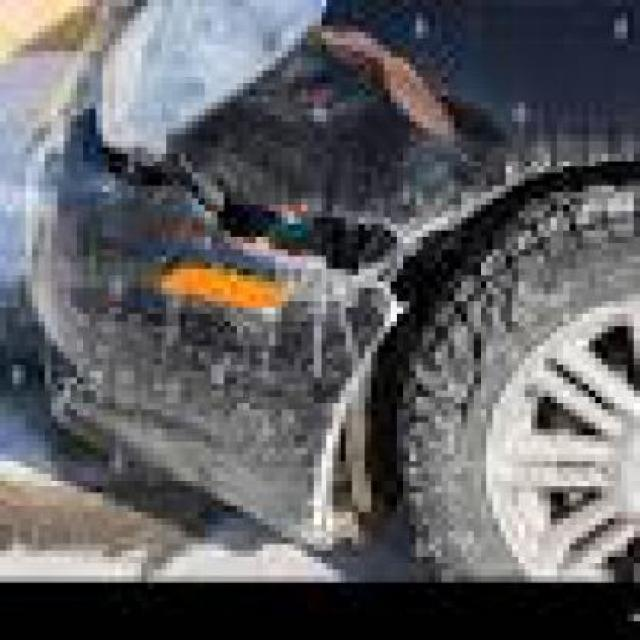damaged-front-bumper: (18, 138, 376, 540)
